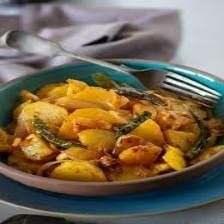sabzi: (0, 72, 224, 187)
